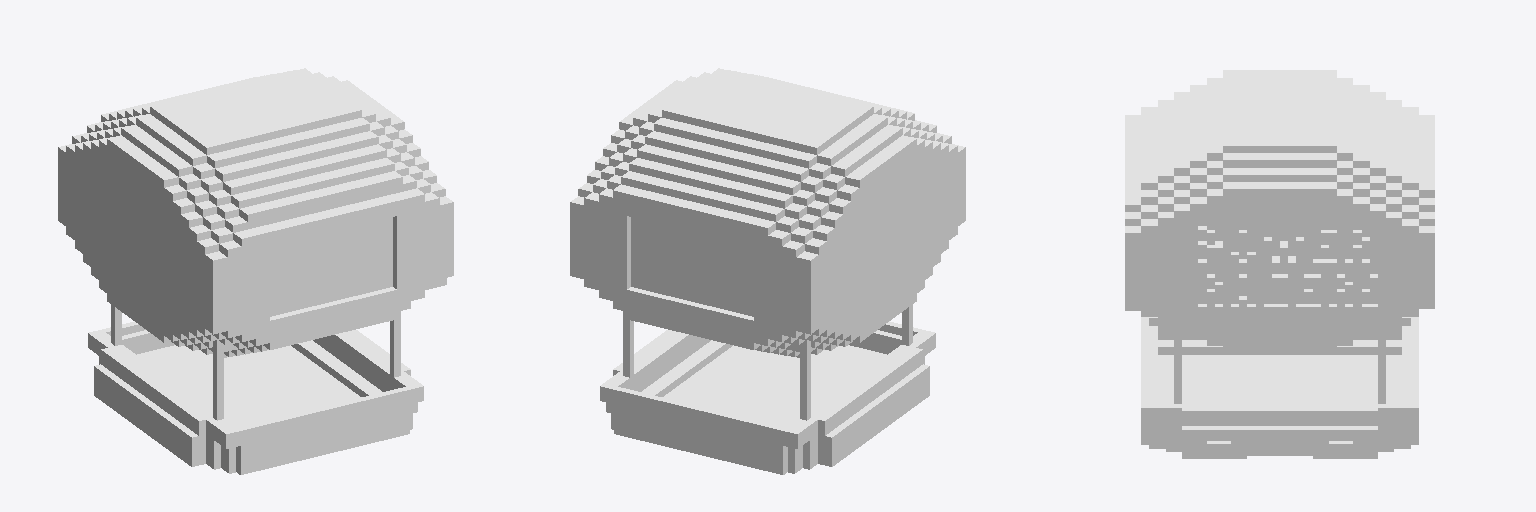
File: zeppelin.obj
The picture shows the model from 3 angles: view 1: azimuth 30°, elevation 25°; view 2: azimuth 150°, elevation 25°; view 3: azimuth 270°, elevation 25°; orthographic projection.
Visible parts, largest first — view 1: zeppelin; view 2: zeppelin; view 3: zeppelin.
Boxes of the visible parts, <box> form: zeppelin: <box>58,68,453,474</box>; zeppelin: <box>570,68,965,474</box>; zeppelin: <box>1125,70,1434,458</box>.
Size of the model in its own units: 34 by 40 by 38.